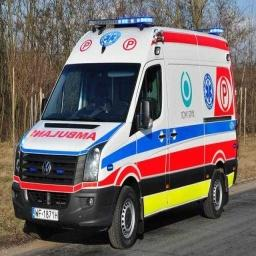Ambulance: (12, 18, 237, 247)
